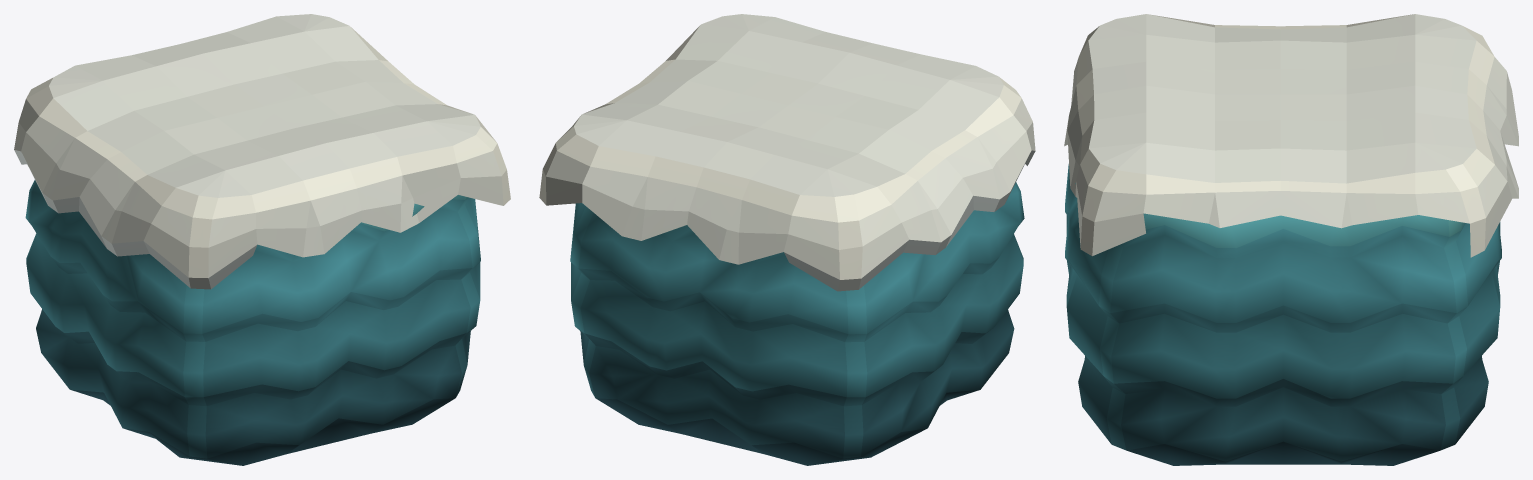
The model's file is Winter_Cube_Blok.fbx.
The picture shows the model from 3 angles, left to right: view 1: azimuth 30°, elevation 25°; view 2: azimuth 150°, elevation 25°; view 3: azimuth 270°, elevation 25°; orthographic projection. The views are drawn at different scales.
Parts seen in each view (by area): view 1: Winter_Cube_03 .001; view 2: Winter_Cube_03 .001; view 3: Winter_Cube_03 .001.
Part boxes in pixels (x1,y1,x2,y2): Winter_Cube_03 .001: [14, 14, 510, 465]; Winter_Cube_03 .001: [539, 14, 1035, 465]; Winter_Cube_03 .001: [1064, 14, 1518, 465].
Bounding box in the file's own units: 91410 × 73763 × 92448.
